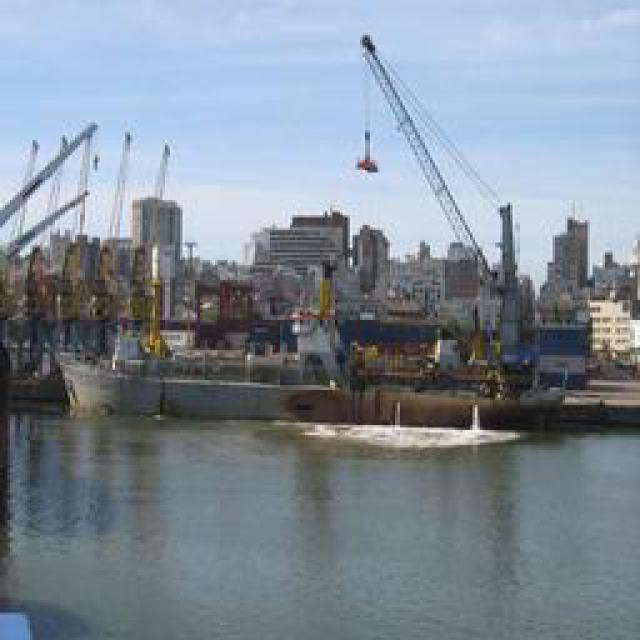Ship: (52, 259, 574, 437)
